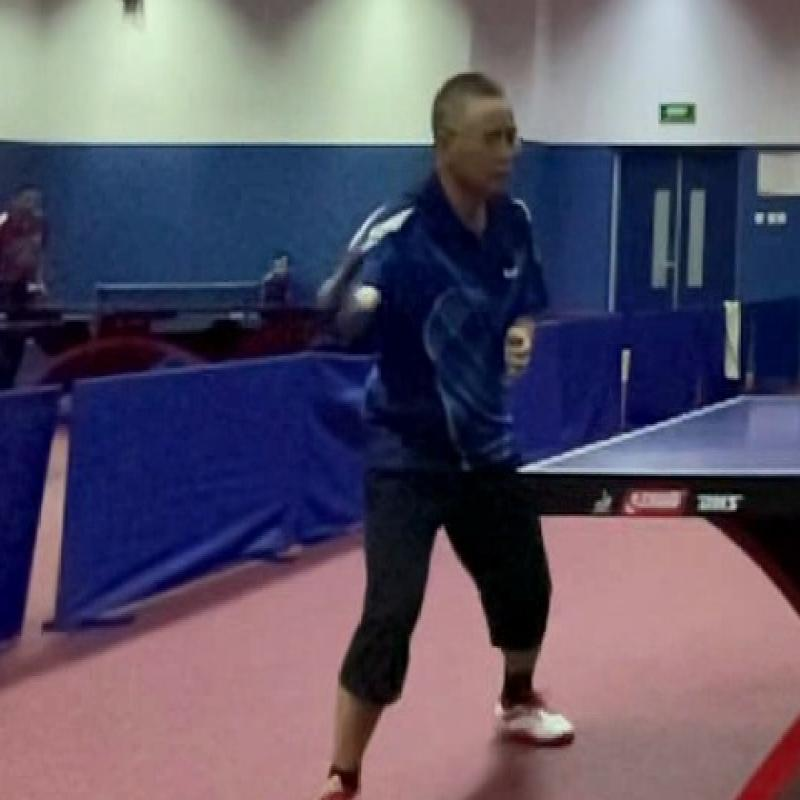bats: (304, 238, 384, 334)
